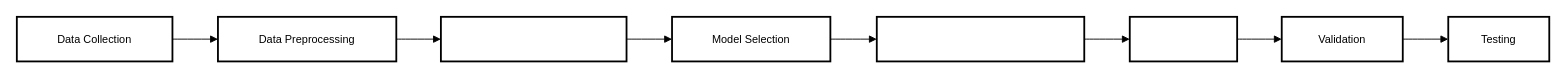
Some shapes in this 1565 by 77 pixel diagram are drawn without their labels. The shapes that lost their labels are listed below. From the top down, each one's centre as x and y in pixels, then its label:
point 533,38: Feature Engineering
point 980,38: Hyperparameter Tuning
point 1183,38: Training
